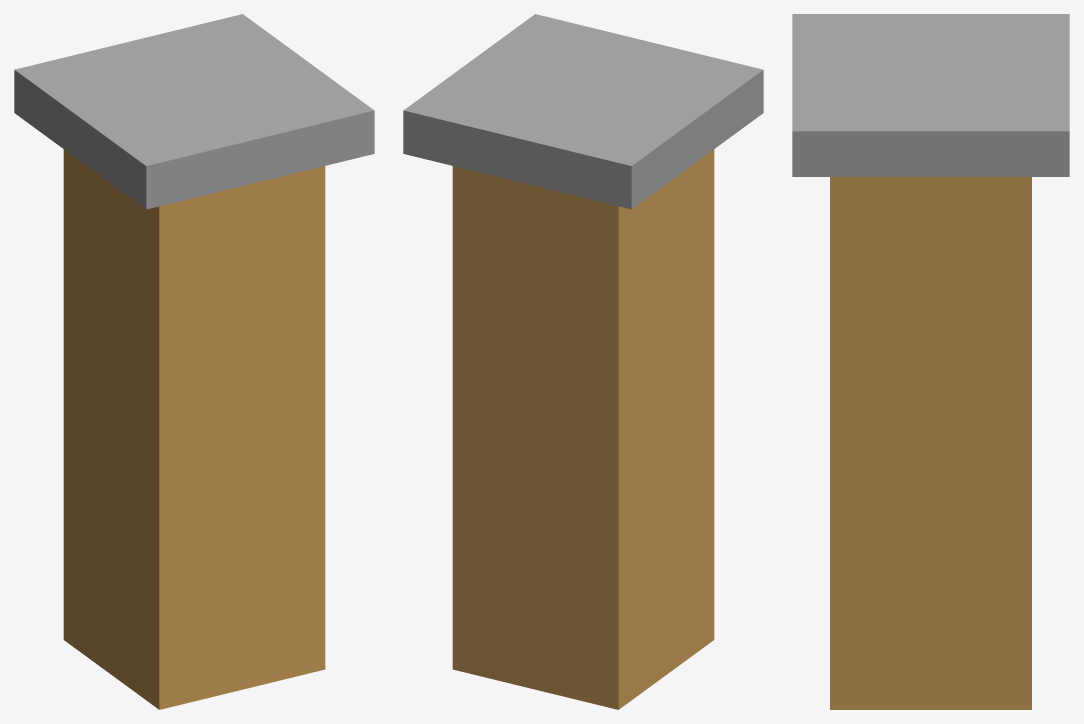
The model's file is cerobong.glb.
3 renders of one model, left to right at view 1: azimuth 30°, elevation 25°; view 2: azimuth 150°, elevation 25°; view 3: azimuth 270°, elevation 25°, orthographic. The views are drawn at different scales.
Size of the model in its own units: 0.55 by 1.3 by 0.55.
